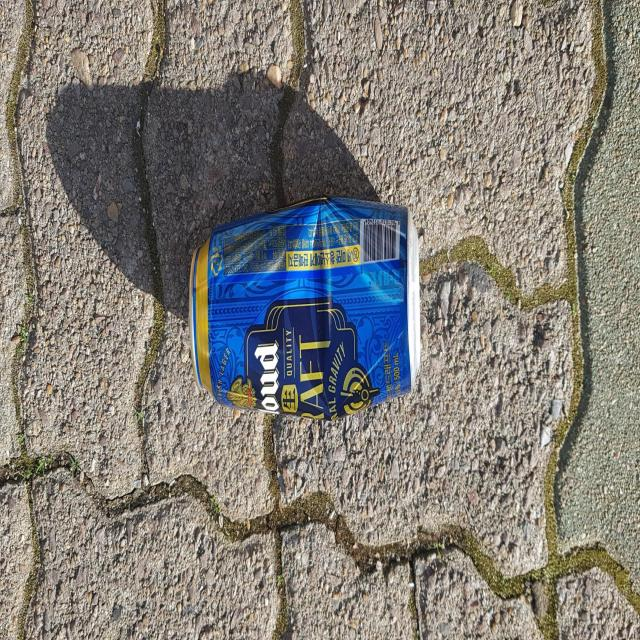can: (190, 196, 420, 420)
